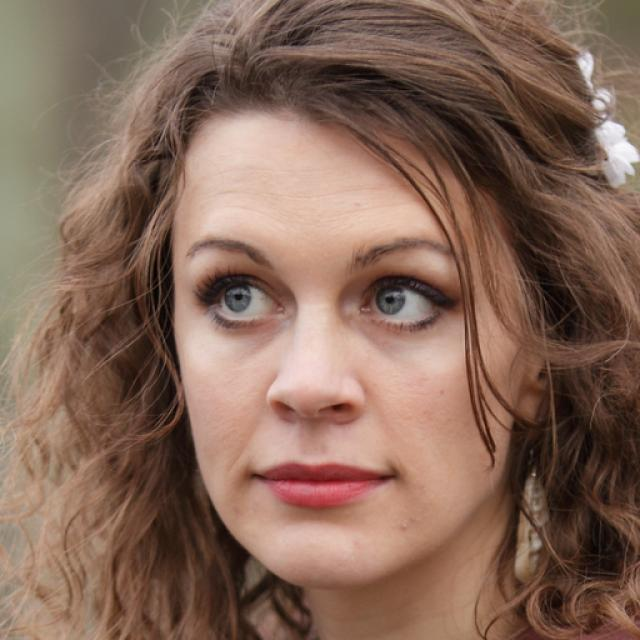neutral: (175, 110, 519, 588)
